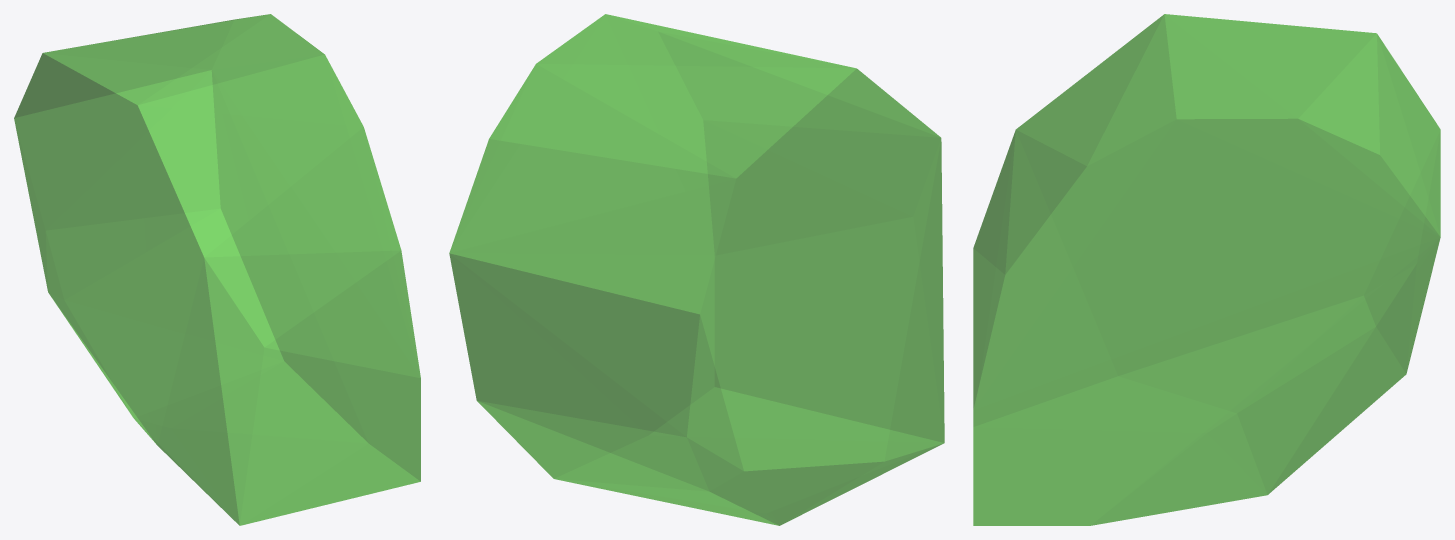
3 renders of one model, left to right at view 1: azimuth 30°, elevation 25°; view 2: azimuth 150°, elevation 25°; view 3: azimuth 270°, elevation 25°, orthographic. The views are drawn at different scales.
Visible parts, largest first — view 1: Shape_IndexedFaceSet.014_Shape_IndexedFaceSet.16465; view 2: Shape_IndexedFaceSet.014_Shape_IndexedFaceSet.16465; view 3: Shape_IndexedFaceSet.014_Shape_IndexedFaceSet.16465.
Boxes of the visible parts, x1=… form: Shape_IndexedFaceSet.014_Shape_IndexedFaceSet.16465: x1=14, y1=14, x2=420, y2=525; Shape_IndexedFaceSet.014_Shape_IndexedFaceSet.16465: x1=449, y1=14, x2=944, y2=525; Shape_IndexedFaceSet.014_Shape_IndexedFaceSet.16465: x1=973, y1=14, x2=1440, y2=525.
Size of the model in its own units: 0.055 by 0.0958 by 0.1003.
